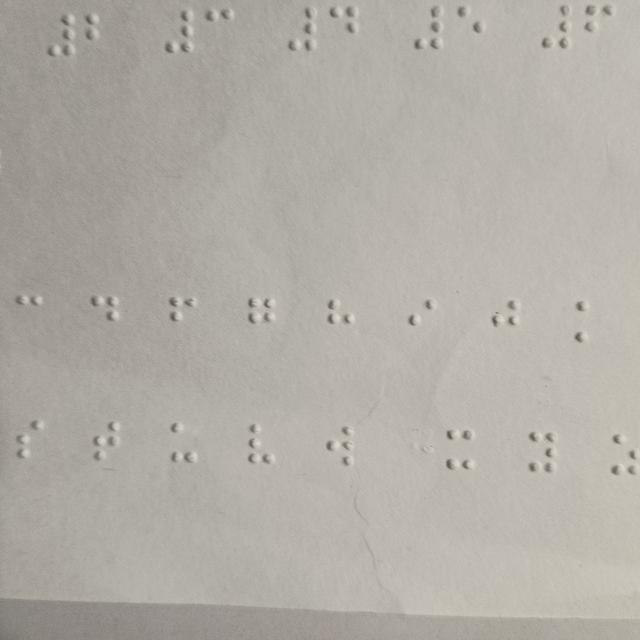digit_2: (86, 11, 117, 57)
digit_3: (204, 8, 235, 54)
digit_4: (329, 6, 359, 52)
digit_5: (456, 7, 485, 52)
digit_6: (585, 3, 614, 49)
number_sign: (164, 8, 195, 54), (540, 4, 571, 50), (46, 12, 77, 57), (288, 8, 319, 53), (413, 6, 444, 51)
one_cell_alphabet_bagaman: (249, 423, 275, 464)
one_cell_alphabet_dahil: (92, 296, 119, 336)
one_cell_alphabet_ganoon: (246, 297, 276, 338)
one_cell_alphabet_hakbang: (491, 301, 520, 341)
one_cell_alphabet_hindi: (329, 299, 357, 339)
one_cell_alphabet_ikaw: (409, 297, 437, 338)
one_cell_alphabet_ito: (446, 429, 475, 469)
one_cell_alphabet_kaniya: (16, 294, 43, 334)
one_cell_alphabet_kaya: (573, 301, 601, 342)
one_cell_alphabet_paano: (168, 295, 198, 336)
one_cell_alphabet_sa: (611, 435, 639, 476)
one_cell_alphabet_sang-ayon: (16, 419, 43, 459)
one_cell_alphabet_tayo: (94, 420, 120, 461)
one_cell_alphabet_upang: (171, 421, 197, 462)
one_cell_alphabet_wala: (327, 426, 354, 467)
one_cell_alphabet_yaman: (527, 431, 556, 471)
